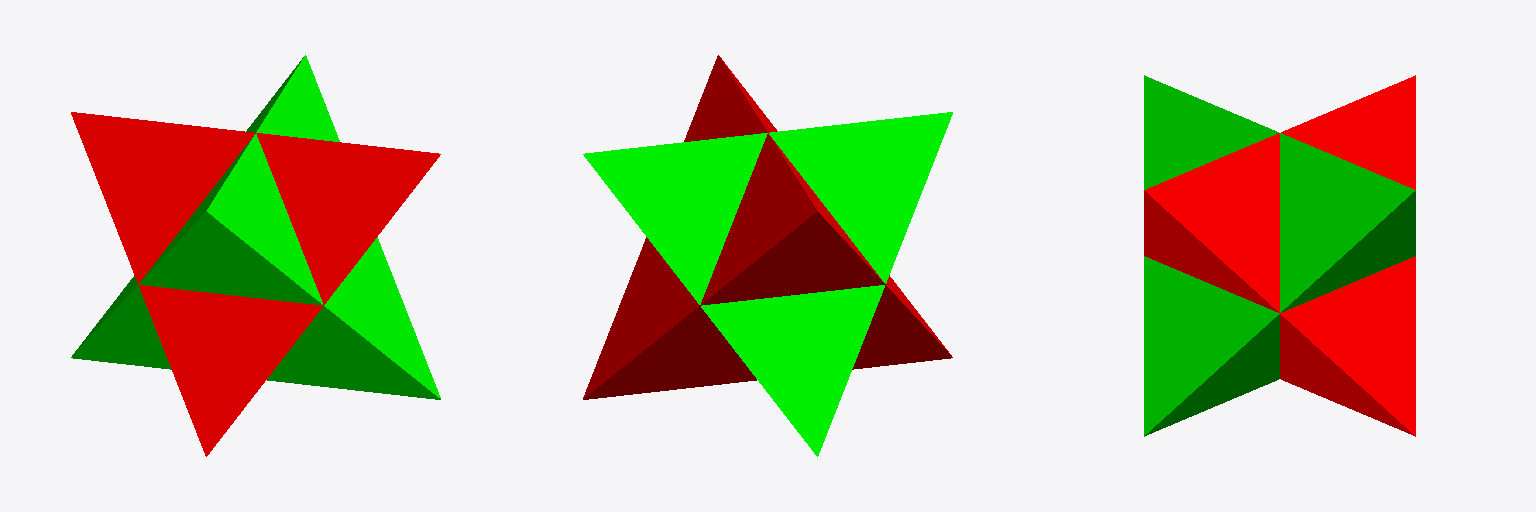
The model's file is stellacol.obj.
The picture shows the model from 3 angles: view 1: azimuth 30°, elevation 25°; view 2: azimuth 150°, elevation 25°; view 3: azimuth 270°, elevation 25°; orthographic projection.
Parts seen in each view (by area): view 1: stella; view 2: stella; view 3: stella.
Part boxes in pixels (x1,y1,x2,y2): stella: (71, 55, 440, 456); stella: (583, 55, 952, 456); stella: (1144, 75, 1415, 436).
Size of the model in its own units: 2 by 2 by 2.